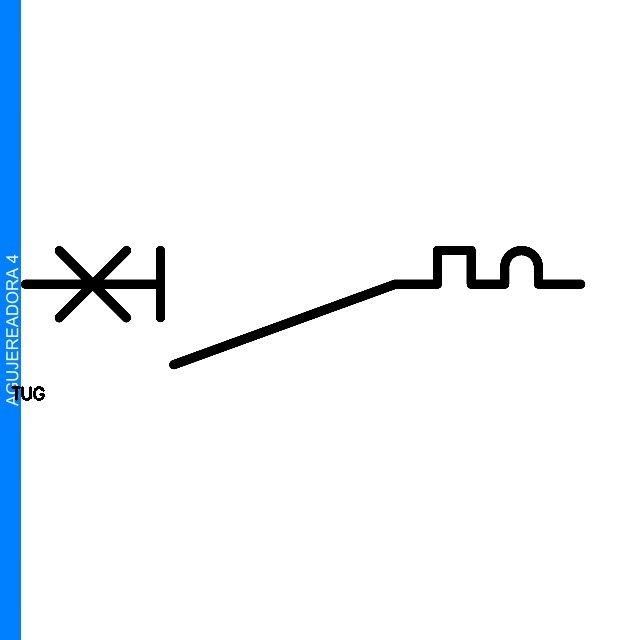interruptor_termomagnetico: (11, 236, 595, 379)
